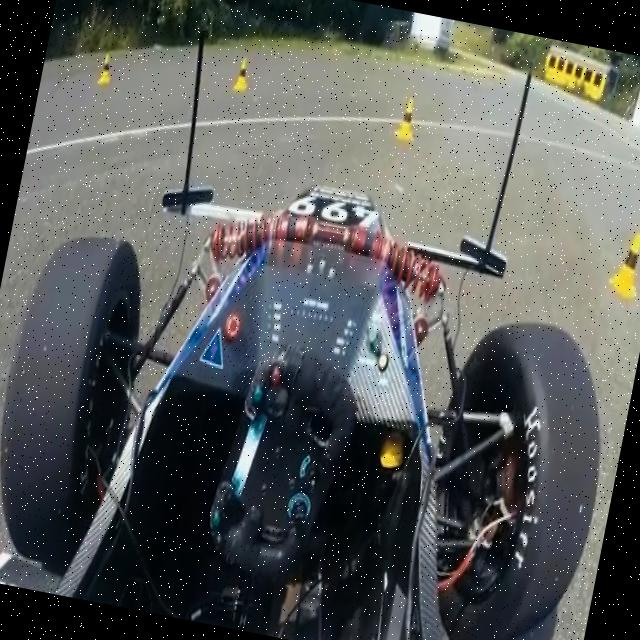yellow_cone: (605, 229, 640, 300), (392, 95, 422, 144), (232, 55, 253, 93), (97, 53, 116, 87)
